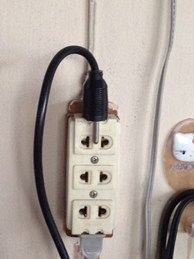Three_eye_plug: (59, 101, 121, 245)
